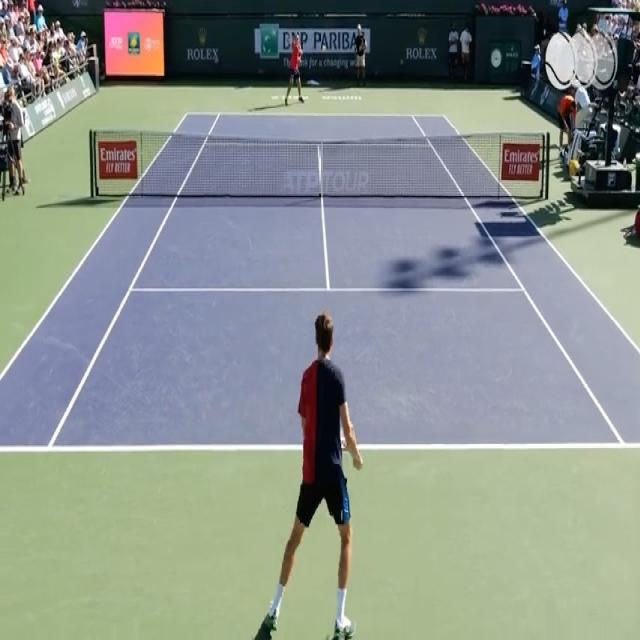ready-position: (266, 308, 364, 635)
